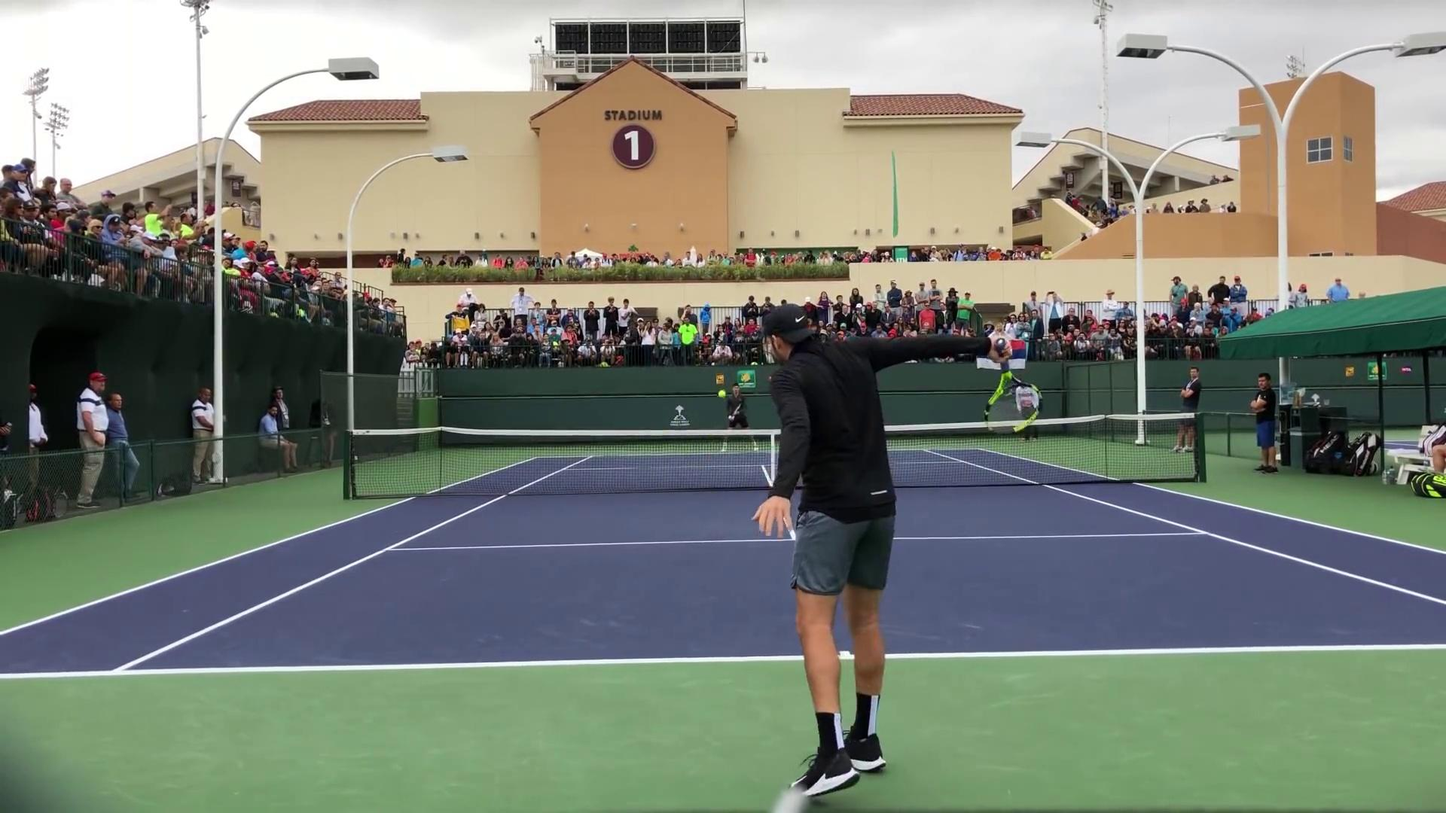ball: (715, 388, 725, 399)
